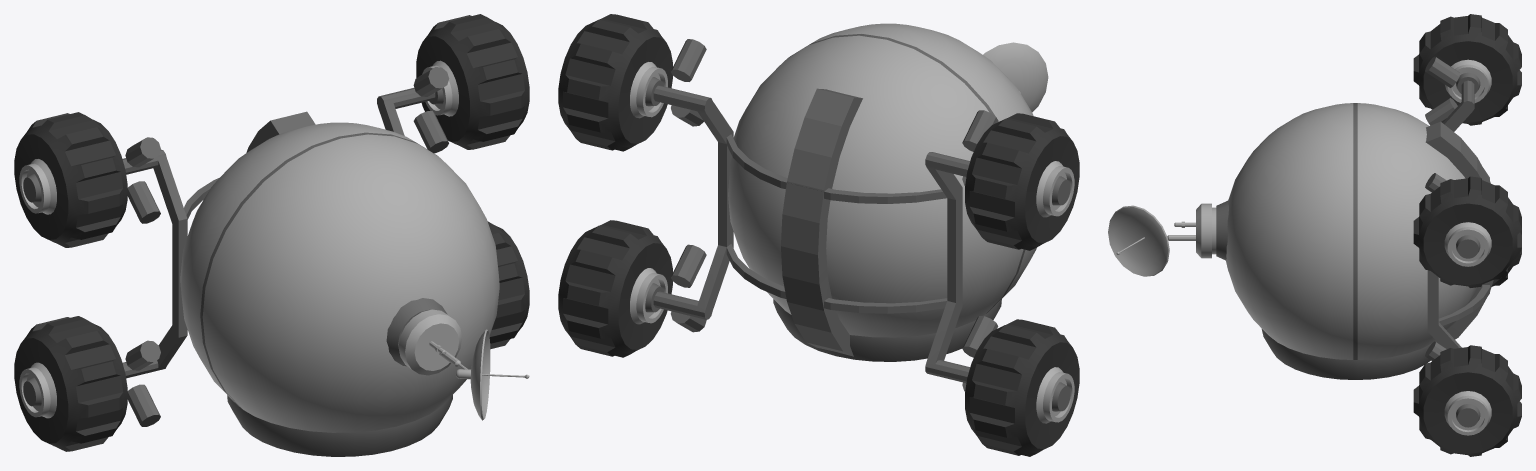
The model's file is trample-stego.glb.
3 views of the same model, side by side, from view 1: azimuth 30°, elevation 25°; view 2: azimuth 150°, elevation 25°; view 3: azimuth 270°, elevation 25° (orthographic). The views are drawn at different scales.
Parts seen in each view (by area): view 1: Rover_Round; view 2: Rover_Round; view 3: Rover_Round.
Boxes of the visible parts, bbox=[...] form: Rover_Round: bbox=[14, 14, 529, 456]; Rover_Round: bbox=[558, 14, 1079, 456]; Rover_Round: bbox=[1108, 14, 1521, 456].
Bounding box in the file's own units: 5.79 × 3.69 × 5.17.
Materials: 1 (1 with a texture image).
